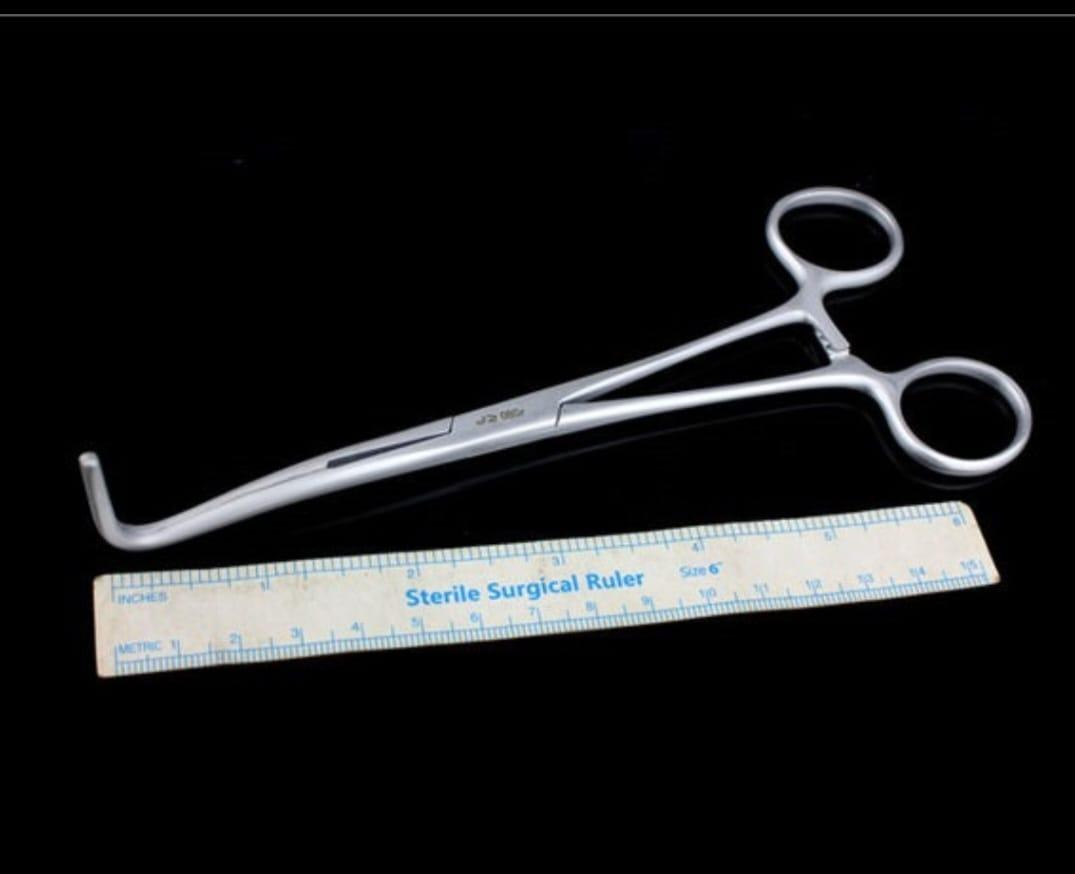Rectangle Cholecystectomy Forceps: (64, 165, 1059, 556)
